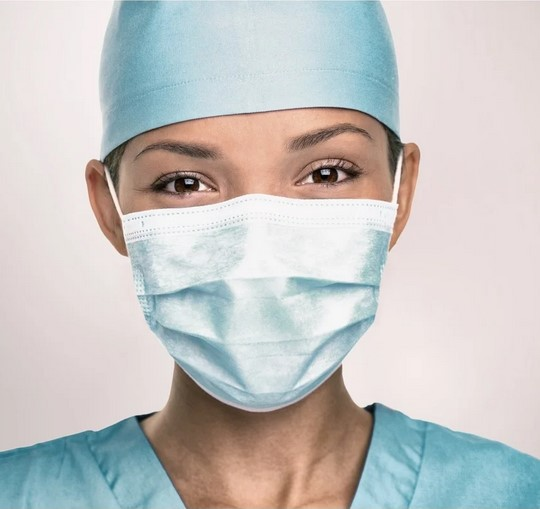with_mask_and_cap: (93, 9, 413, 416)
